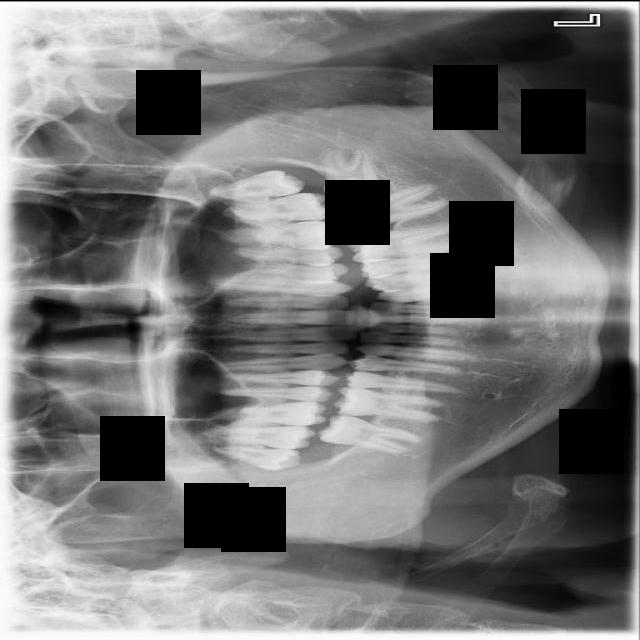3M ESPE Implant: (216, 445, 301, 471)
73: (592, 27, 600, 32)
BioHorizons Implant: (225, 191, 335, 222)
BioLife Implant: (210, 166, 307, 203)
Biomet 3i Implant: (320, 146, 386, 202)
Blue Sky Bio Implant: (334, 179, 449, 237)
Caries: (203, 424, 317, 451)
Implant: (316, 410, 423, 456)
